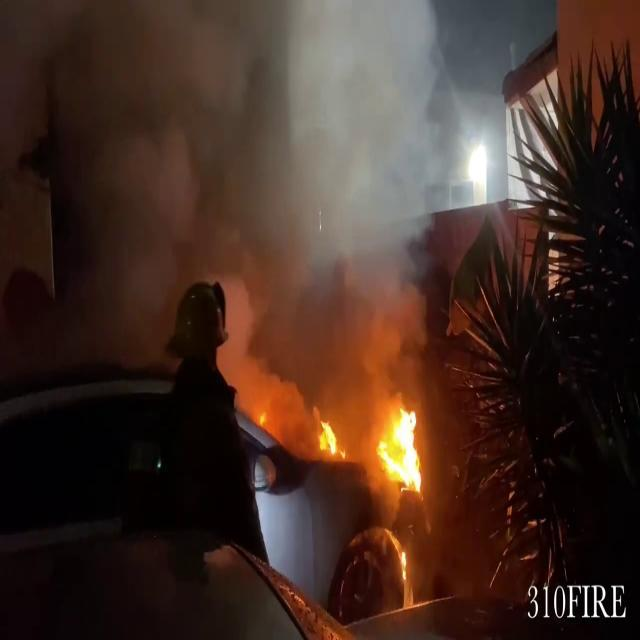Fire: (378, 400, 427, 490), (315, 415, 345, 461)
Smoke: (96, 0, 452, 400)
